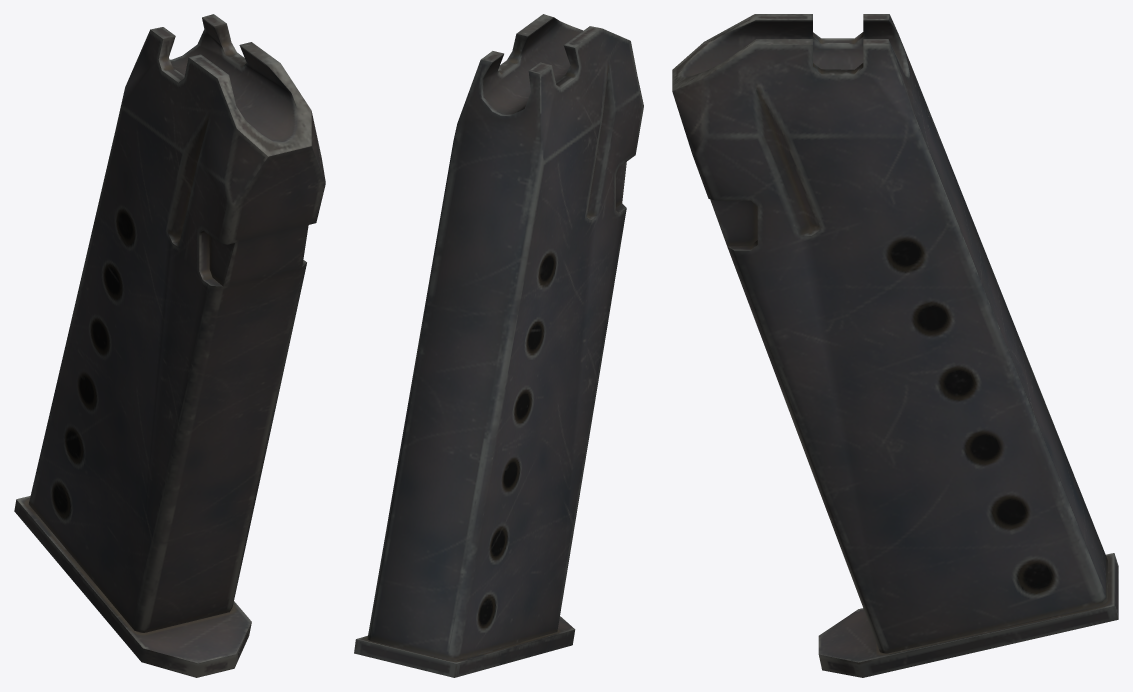
Rendered from madsonD9_mag.fbx.
3 views of the same model, side by side, from view 1: azimuth 30°, elevation 25°; view 2: azimuth 150°, elevation 25°; view 3: azimuth 270°, elevation 25° (orthographic). The views are drawn at different scales.
Parts seen in each view (by area): view 1: madsond9_mag; view 2: madsond9_mag; view 3: madsond9_mag.
Part boxes in pixels (x1,y1,x2,y2): madsond9_mag: (14,14,325,677); madsond9_mag: (354,14,643,677); madsond9_mag: (672,14,1118,677).
Size of the model in its own units: 0.0213 by 0.1174 by 0.0752.
